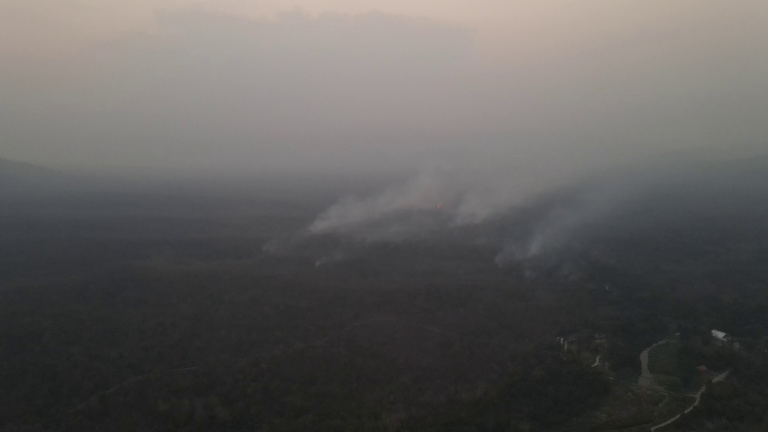fire: (431, 200, 443, 215)
smoke: (291, 118, 599, 278)
